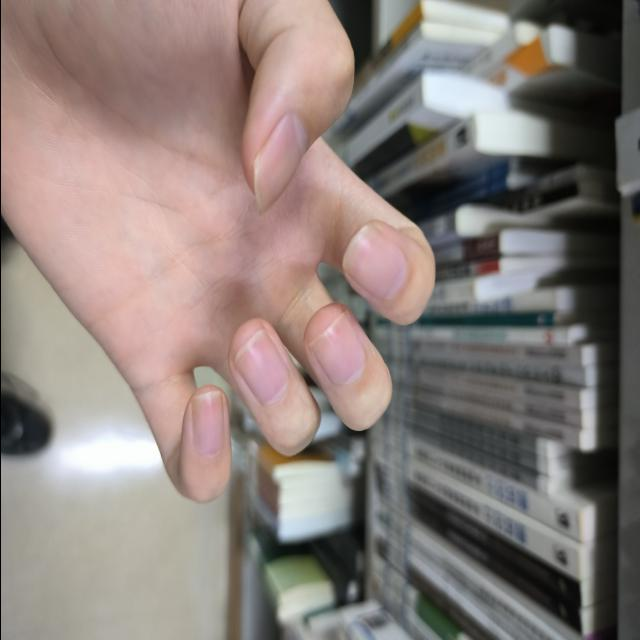Nail: (254, 113, 305, 214), (342, 226, 406, 301), (309, 314, 364, 385), (233, 331, 287, 403), (191, 392, 223, 457)
